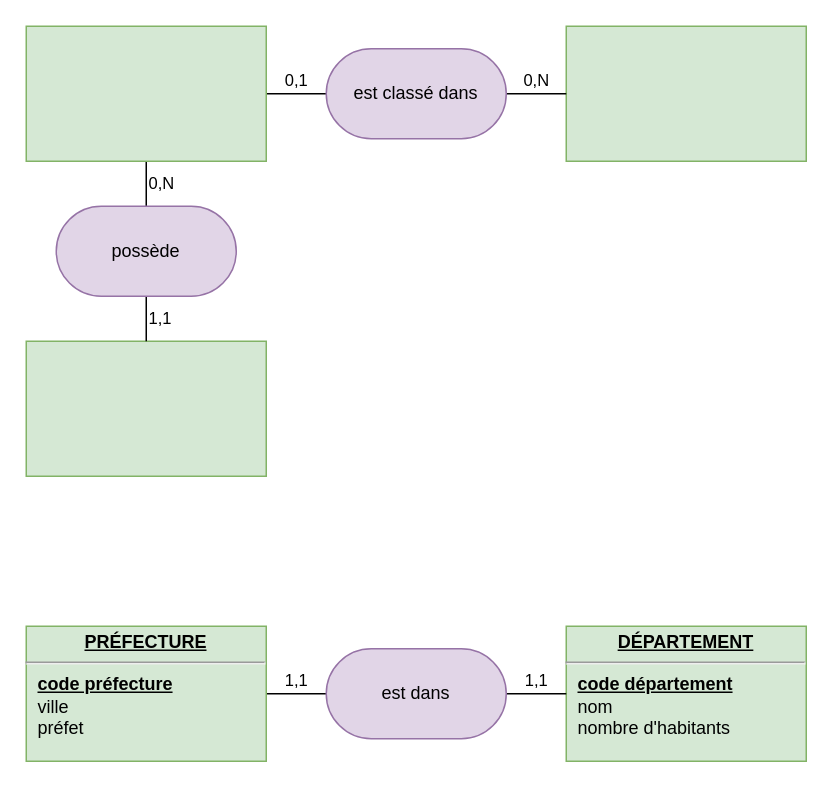
Image size: 833x788. Some labels were removed from this diagram. Here are the shapes that lost their labels. From the top down, the box of each, then its label:
(25, 25, 266, 161): CONTACT code contact prénom nom
(565, 25, 806, 161): CATÉGORIE code catégorie titre
(25, 340, 266, 476): TÉLÉPHONE code téléphone numéro
